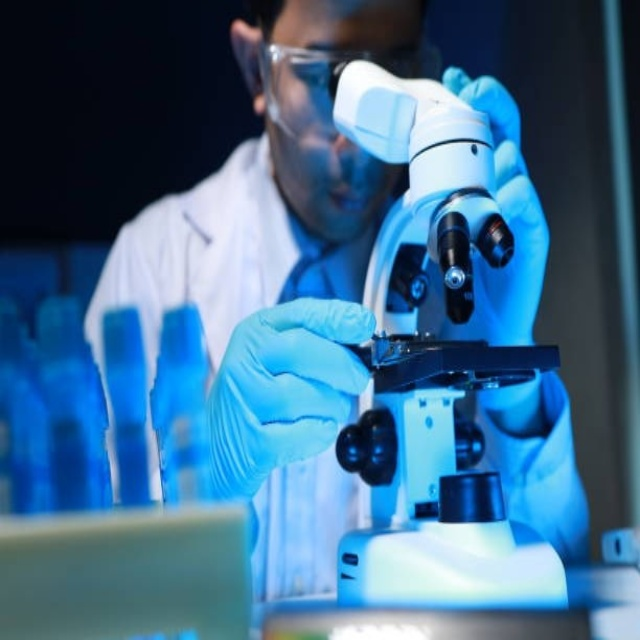Gafas: (256, 31, 433, 139)
Guantes: (212, 290, 380, 505), (443, 58, 549, 342)
Sin_mascara: (319, 160, 373, 234)
